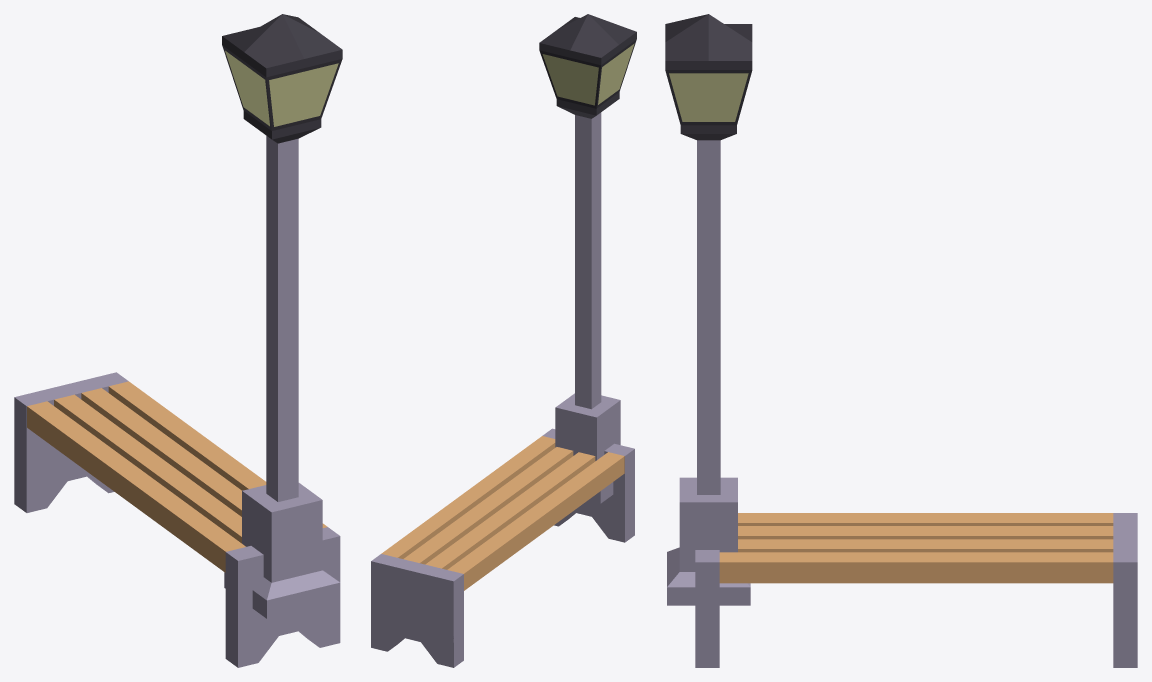
Rendered from flashlight.fbx.
3 renders of one model, left to right at view 1: azimuth 30°, elevation 25°; view 2: azimuth 150°, elevation 25°; view 3: azimuth 270°, elevation 25°, orthographic. The views are drawn at different scales.
Visible parts, largest first — view 1: Cube, Cube.002; view 2: Cube, Cube.002; view 3: Cube, Cube.002.
Part boxes in pixels (left/top/right/bottom): Cube: left=14, top=372, right=340, bottom=667; Cube.002: left=222, top=14, right=342, bottom=618; Cube: left=371, top=428, right=634, bottom=667; Cube.002: left=539, top=14, right=636, bottom=503; Cube: left=695, top=513, right=1137, bottom=667; Cube.002: left=665, top=14, right=752, bottom=605.
Size of the model in its own units: 200 by 1190 by 810.
